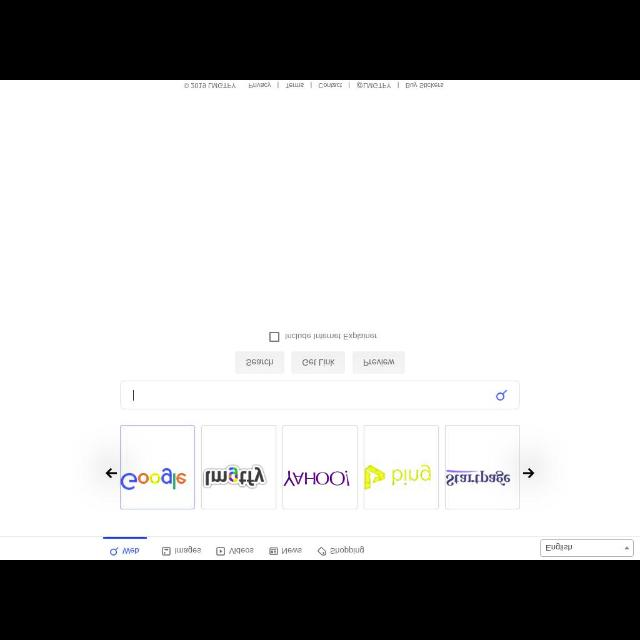checkbox: (269, 333, 279, 341)
icon: (522, 468, 536, 478), (496, 390, 508, 400), (104, 468, 116, 478), (162, 546, 172, 556), (109, 546, 119, 556), (318, 547, 326, 555), (217, 546, 225, 554), (270, 547, 276, 555), (184, 83, 190, 87), (626, 546, 628, 550)
image: (120, 426, 196, 510), (202, 424, 276, 510), (364, 426, 438, 509), (284, 426, 358, 508), (446, 427, 520, 507)
input: (120, 382, 520, 410)
multitab: (180, 80, 456, 94)
spinner: (540, 538, 634, 556)
text: (284, 332, 376, 340), (303, 356, 335, 368), (192, 81, 236, 89), (406, 81, 444, 89), (364, 356, 394, 366), (246, 357, 274, 367), (331, 546, 364, 554), (356, 82, 392, 88), (174, 546, 200, 554), (230, 546, 252, 554), (281, 546, 301, 554), (546, 544, 572, 550), (122, 547, 140, 555), (248, 82, 272, 88), (320, 83, 342, 89), (286, 82, 304, 88)
textbutton: (352, 351, 406, 373), (235, 352, 285, 373), (292, 352, 344, 372)
toolbar: (1, 535, 639, 559)
